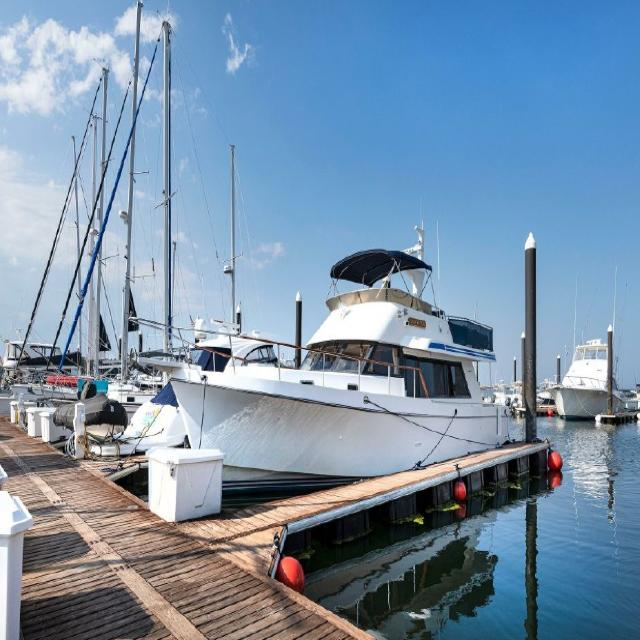passenger ship: (178, 248, 525, 495)
